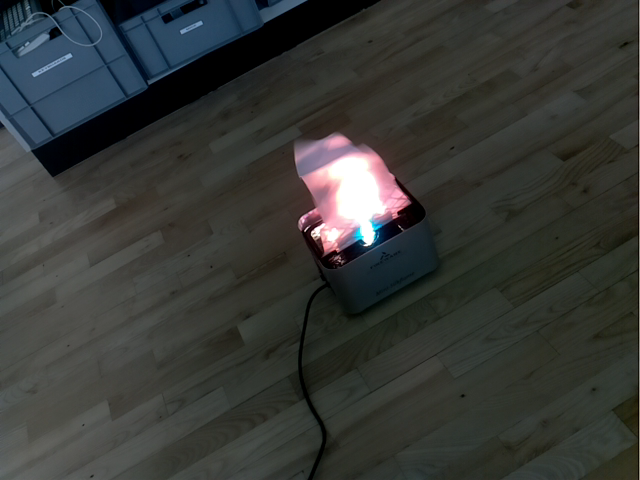fire: (293, 131, 411, 256)
